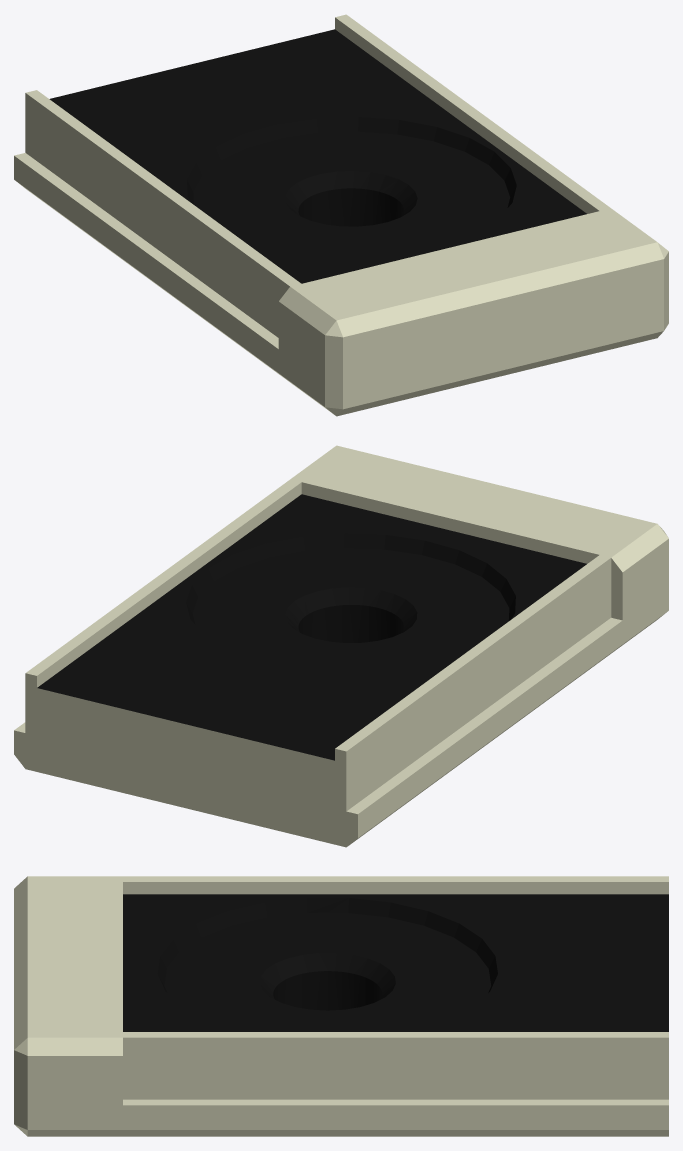
File: Mesh_Monitor_Disk.FBX
3 views of the same model, one above another, from view 1: azimuth 30°, elevation 25°; view 2: azimuth 150°, elevation 25°; view 3: azimuth 270°, elevation 25° (orthographic). The views are drawn at different scales.
Visible parts, largest first — view 1: Mesh_Monitor_Disk; view 2: Mesh_Monitor_Disk; view 3: Mesh_Monitor_Disk.
Boxes of the visible parts, x1=… form: Mesh_Monitor_Disk: x1=14, y1=14, x2=668, y2=416; Mesh_Monitor_Disk: x1=14, y1=445, x2=668, y2=847; Mesh_Monitor_Disk: x1=14, y1=876, x2=668, y2=1136.
Bounding box in the file's own units: 30 × 48 × 8.
